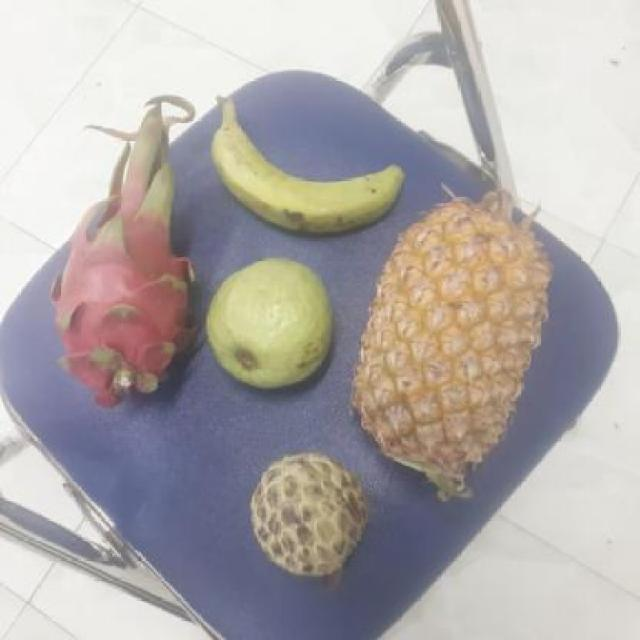banana: (220, 115, 408, 234)
dragon fruit: (56, 189, 207, 400)
guava: (206, 260, 343, 389)
pineapple: (354, 201, 561, 487)
sugar apple: (251, 450, 374, 578)
